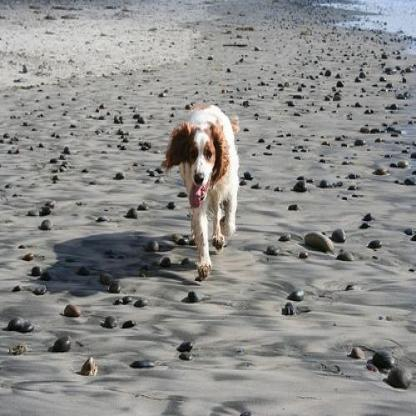Welsh_springer_spaniel: (163, 101, 237, 279)
